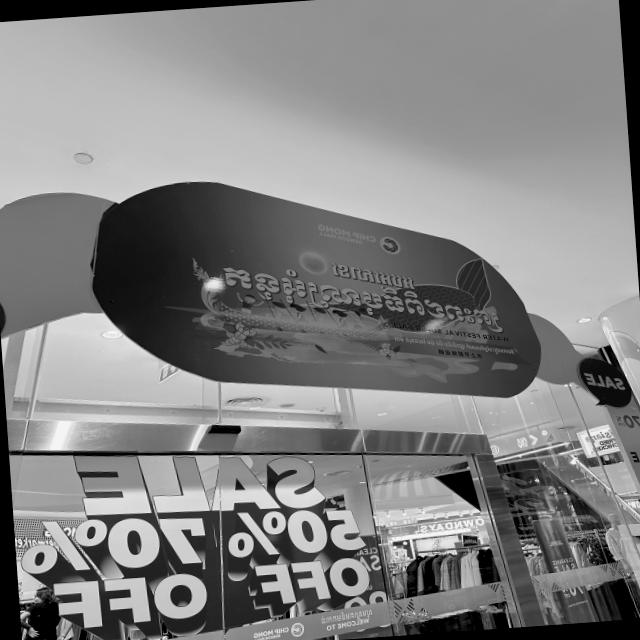Yolov11kh: (215, 261, 510, 332), (323, 255, 426, 294)
